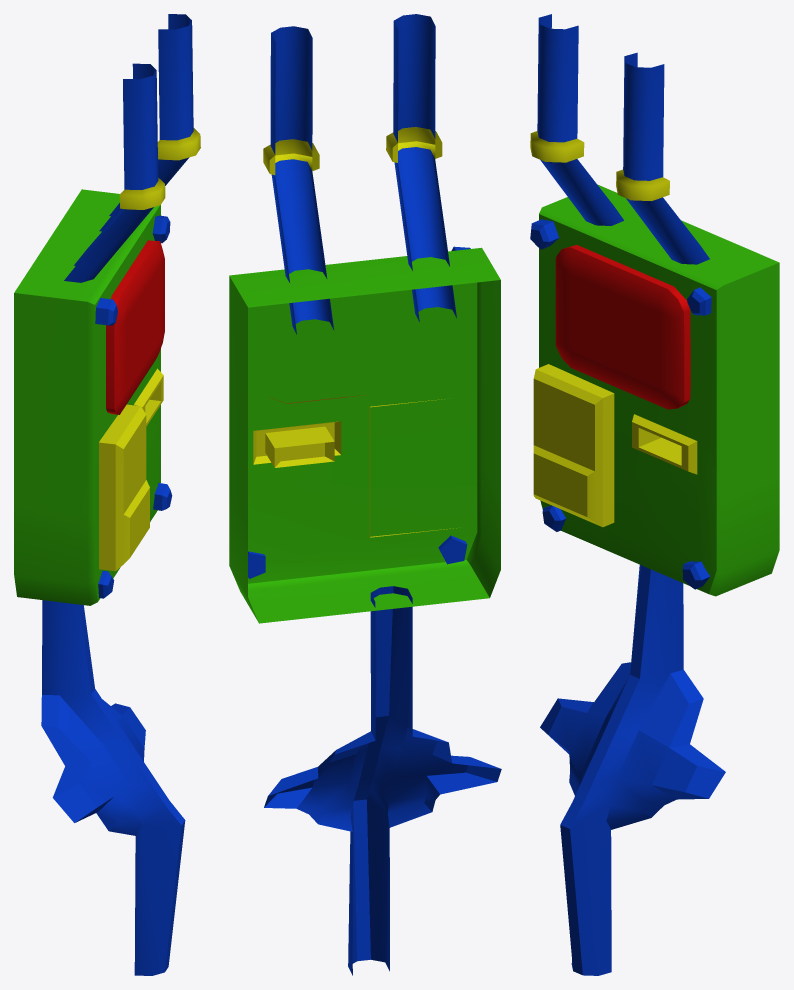
Rendered from Wall computer terminal.fbx.
The picture shows the model from 3 angles, left to right: view 1: azimuth 30°, elevation 25°; view 2: azimuth 150°, elevation 25°; view 3: azimuth 270°, elevation 25°; orthographic projection. The views are drawn at different scales.
Visible parts, largest first — view 1: polySurface49; view 2: polySurface49; view 3: polySurface49.
Part boxes in pixels (x1,y1,x2,y2): polySurface49: [14, 14, 200, 975]; polySurface49: [229, 14, 501, 975]; polySurface49: [530, 14, 779, 975].
Size of the model in its own units: 83.66 by 355 by 85.79.
